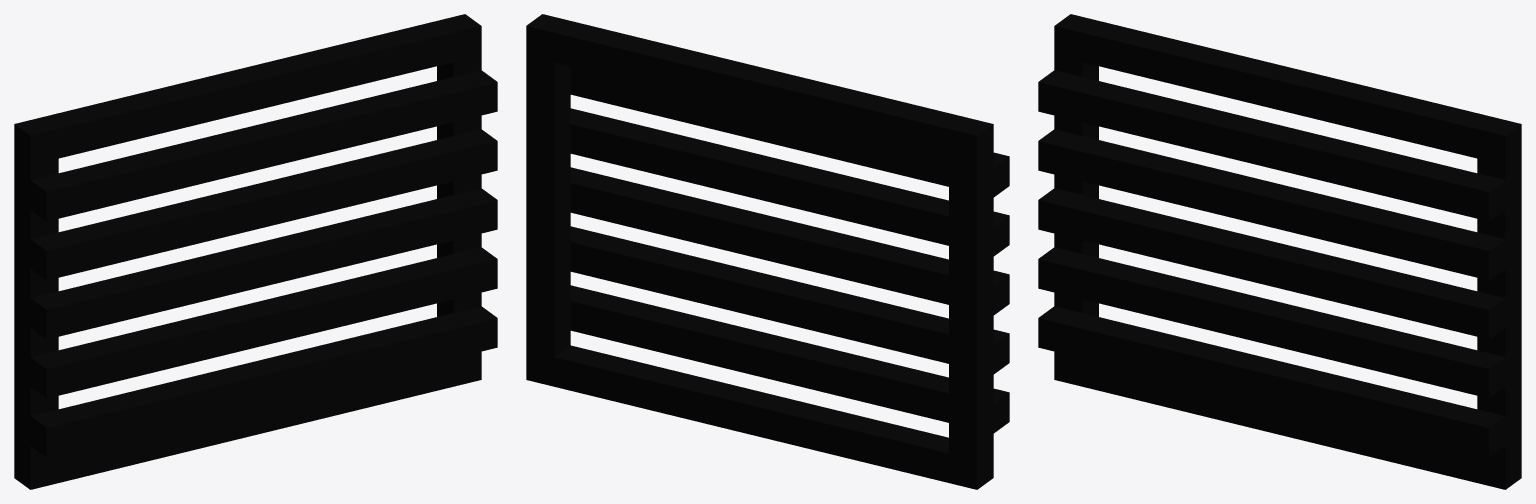
The model's file is rockmetalguard.obj.
The picture shows the model from 3 angles, left to right: view 1: azimuth 30°, elevation 25°; view 2: azimuth 150°, elevation 25°; view 3: azimuth 330°, elevation 25°; orthographic projection.
Parts seen in each view (by area): view 1: glass; view 2: glass; view 3: glass.
Boxes of the visible parts, x1,y1,x2,y2 form: glass: (14,14,497,489); glass: (526,14,1009,489); glass: (1038,14,1521,489).
Bounding box in the file's own units: 0.25 × 0.1875 × 0.0312.
